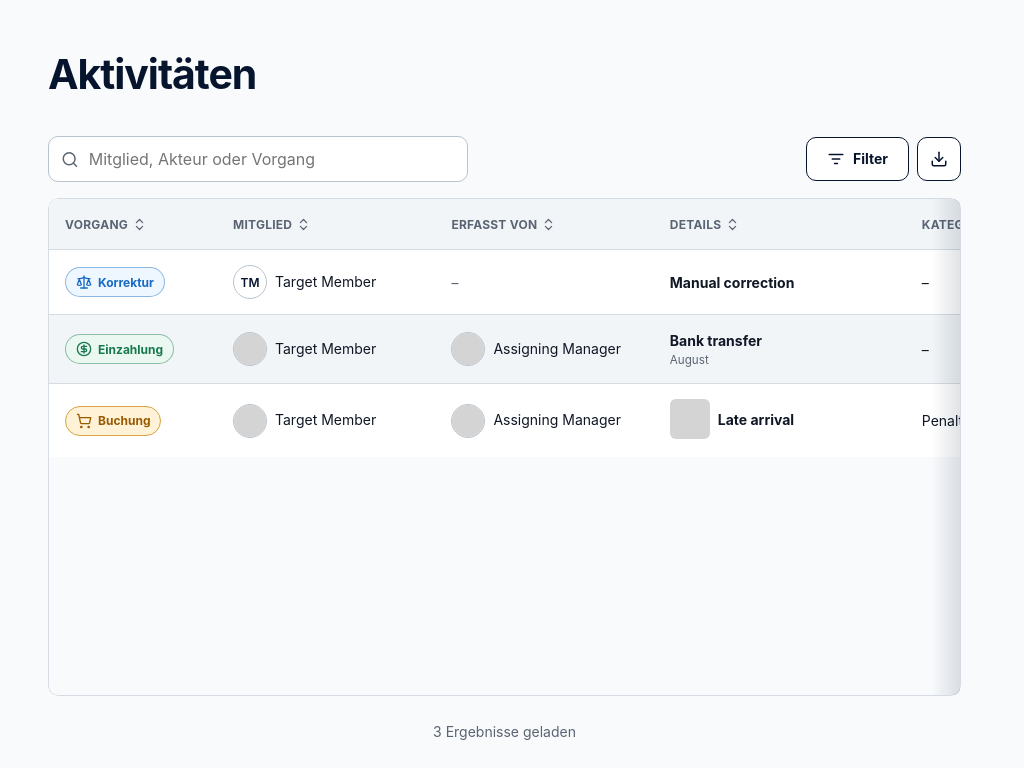
Test: ActivitiesPage unified feed › hides the correction filter when the authorized feed has no corrections
The image size is (1024, 768).
What coordinates should you click on to do the following:
click the button "Filter"
I would click on:
 (858, 159)
Its box is [806,137,909,181].
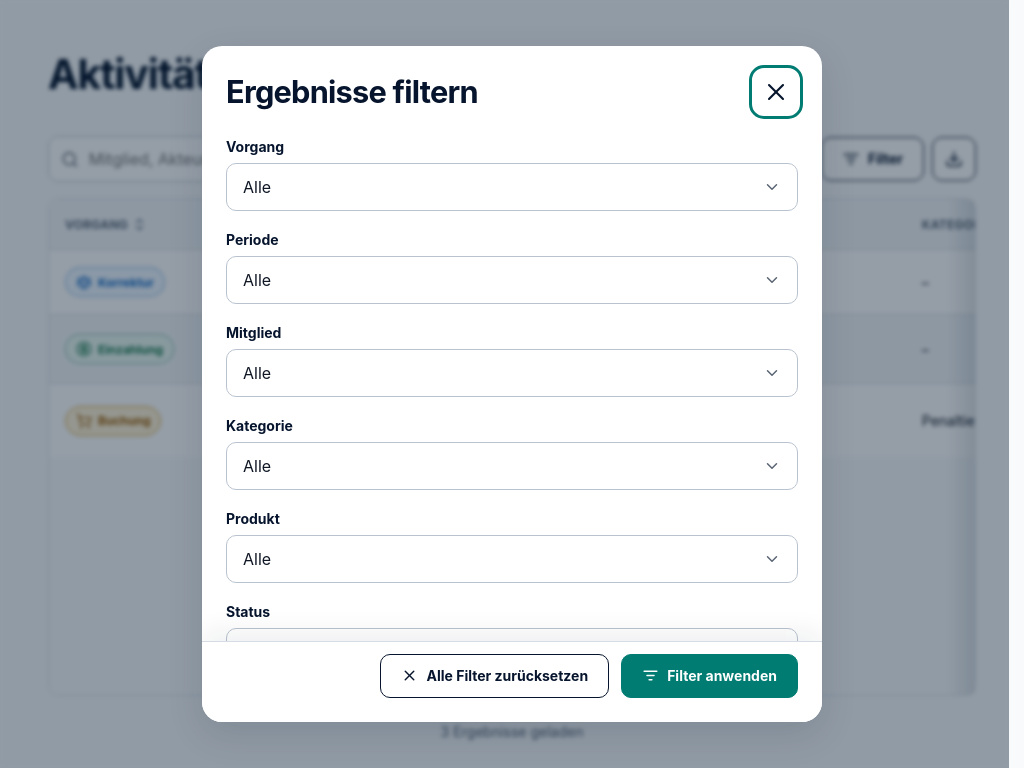
What coordinates should you click on to do the following:
click the button named "Vorgang"
I would click on:
 (257, 187)
Its box is [226,163,798,211].
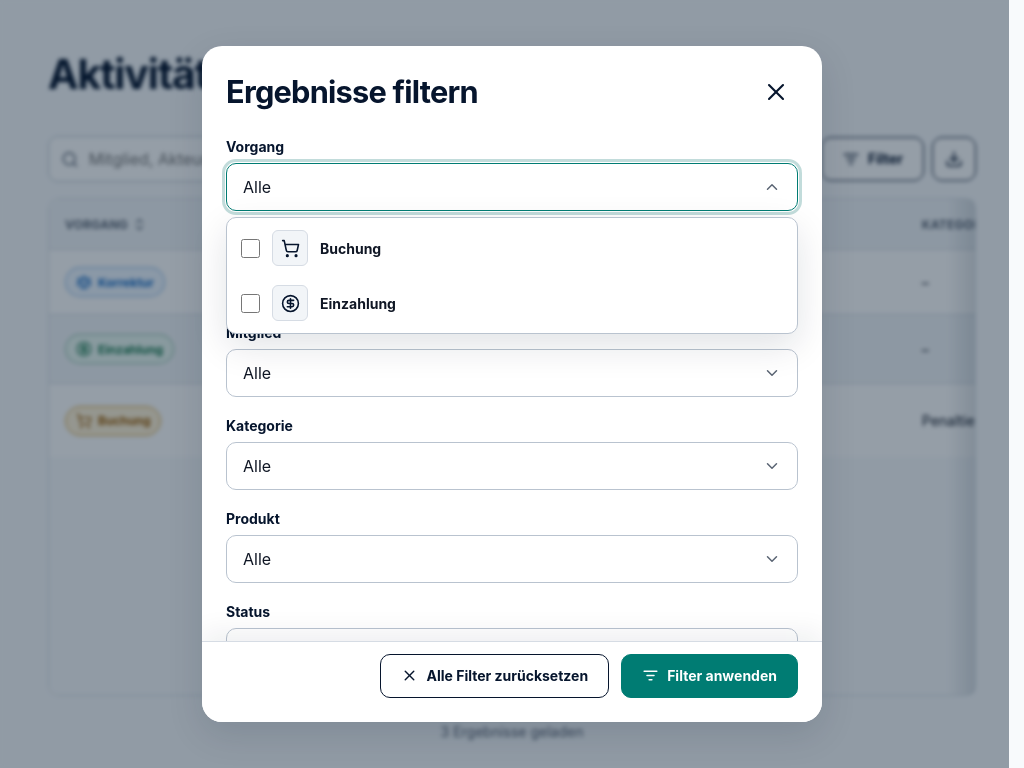
Result: the checkbox labelled "Buchung" is shown at [241,239,260,258]
Result: the checkbox labelled "Einzahlung" is shown at [241,294,260,313]
